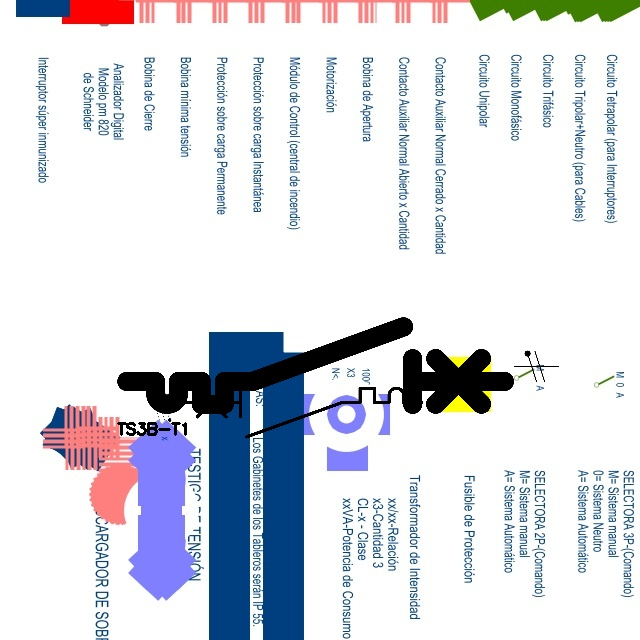interruptor_termomagnetico: (117, 317, 514, 414), (176, 382, 428, 443)
